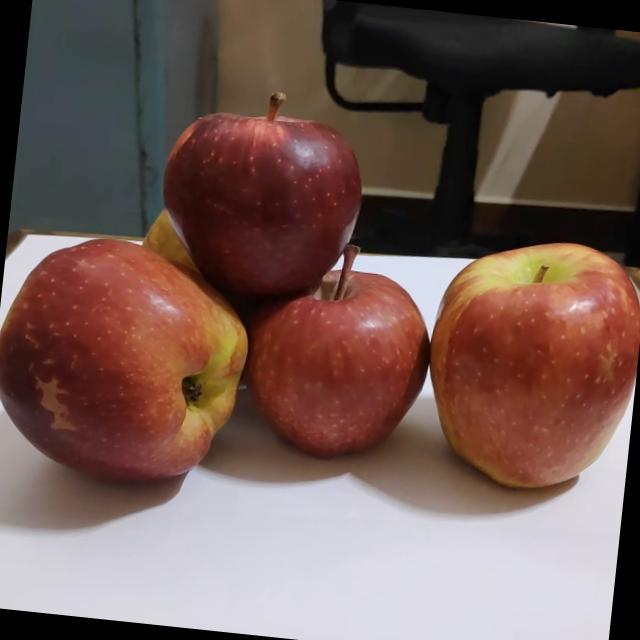apple: (0, 221, 267, 498), (416, 225, 640, 497), (144, 76, 374, 314), (232, 229, 444, 471), (134, 189, 239, 275)
